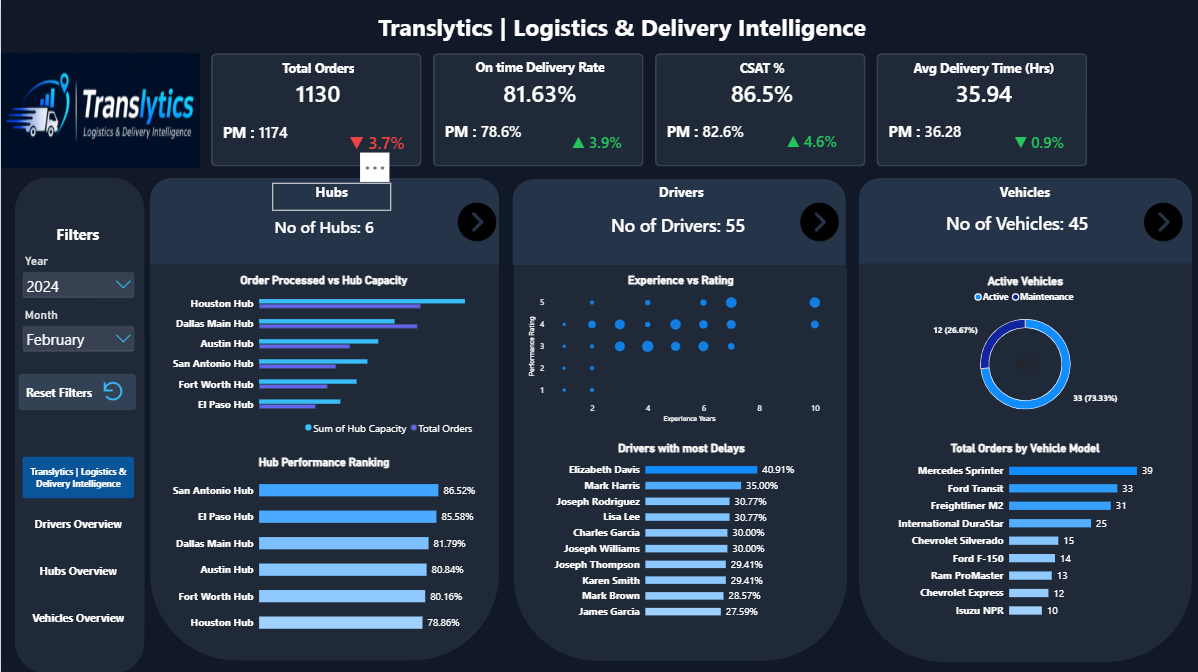

The page's visual inventory and layout, read from the dashboard file:
{"tool":"powerbi","page":{"name":"Translytics | Logistics & Delivery Intelligence","canvas":[1920,1080],"ordinal":0},"visuals":[{"type":"textbox","box":[479.6,0,1027.9,83.2],"z":0},{"type":"cardVisual","fields":{"Data":["Orders.Total Orders","Orders.On time Delivery Rate","Orders.CSAT %","Orders.Avg Delivery Time (Hrs)"]},"box":[336.6,81.4,1402.5,186.4],"z":1000},{"type":"shape","box":[237.1,285.9,559.2,772.7],"z":2000},{"type":"shape","box":[237.1,285.9,559.2,139.3],"z":3000},{"type":"cardVisual","fields":{"Data":["Hubs.No of Hubs"]},"box":[398.1,329.4,238.9,67],"z":4000},{"type":"clusteredBarChart","title":"Order Processed vs Hub Capacity","fields":{"Category":["Hubs.HubName"],"Y":["Sum(Hubs.Hub Capacity)","Orders.Total Orders"]},"box":[258.8,423.5,517.6,293.2],"z":5000},{"type":"barChart","title":"Hub Performance Ranking","fields":{"Category":["Hubs.HubName"],"Y":["Orders.On time Delivery Rate"]},"box":[258.8,716.6,517.6,325.7],"z":6000},{"type":"shape","box":[819.8,307.6,533.8,751],"z":7000},{"type":"shape","box":[818,287.7,533.8,137.5],"z":8000},{"type":"shape","box":[1371.7,287.7,533.8,772.7],"z":9000},{"type":"shape","box":[1371.7,285.9,533.8,137.5],"z":10000},{"type":"textbox","box":[433.5,294.1,190,43.4],"z":11000},{"type":"textbox","box":[1015.2,293.2,144.8,45.2],"z":12000},{"type":"cardVisual","fields":{"Data":["Drivers.No of Drivers"]},"box":[959.1,336.6,251.5,50.7],"z":13000},{"type":"scatterChart","title":"Experience vs Rating ","fields":{"Size":["Sum(Drivers.Experience Years)1"],"X":["Drivers.Experience Years"],"Y":["Drivers.Performance Rating"]},"box":[828.8,423.5,519.4,269.6],"z":14000},{"type":"barChart","title":"Drivers with most Delays ","fields":{"Category":["Drivers.DriverName"],"Y":["Orders.Delayed Delivery Rate"]},"box":[868.6,693.1,441.6,318.5],"z":15000},{"type":"textbox","box":[1565.4,293.2,144.8,45.2],"z":16000},{"type":"cardVisual","fields":{"Data":["Vehicles.No of Vehicles"]},"box":[1496.6,331.2,284.1,50.7],"z":17000},{"type":"donutChart","title":"Active Vehicles","fields":{"Category":["Vehicles.Vehicle Status"],"Y":["CountNonNull(Vehicles.Vehicle ID)"]},"box":[1429.6,425.3,418,267.8],"z":18000},{"type":"barChart","fields":{"Category":["Vehicles.Vehicle Model"],"Y":["Orders.Total Orders"]},"box":[1418.8,693.1,441.6,318.5],"z":19000},{"type":"cardVisual","fields":{"Data":["Date Table.Orders Comparison"]},"box":[516,190,171.9,79.6],"z":20000},{"type":"cardVisual","fields":{"Data":["Date Table.On Time Comparison"]},"box":[868,190,171.9,79.6],"z":21000},{"type":"cardVisual","fields":{"Data":["Date Table.CSAT Comparison"]},"box":[1212,186,171.9,83.2],"z":22000},{"type":"cardVisual","fields":{"Data":["Date Table.Delivery Time Comparison"]},"box":[1582,190,158,78],"z":23000},{"type":"shape","box":[22,286,208,794],"z":24000},{"type":"slicer","fields":{"Values":["Date Table.Month"]},"box":[30,494,188.2,92.3],"z":25000},{"type":"slicer","fields":{"Values":["Date Table.Year"]},"box":[30,408,188.2,85.1],"z":26000},{"type":"textbox","box":[36,360,173.7,43.4],"z":27000},{"type":"actionButton","box":[28,600,188,58],"z":28000},{"type":"image","box":[0,85.1,318.5,184.6],"z":29000},{"type":"image","box":[152,608,54,40],"z":30000},{"type":"image","box":[1274,325.7,70.6,61.5],"z":31000},{"type":"image","box":[725.7,325.7,70.6,61.5],"z":32000},{"type":"pageNavigator","box":[34.4,731.1,179.2,295],"z":33000},{"type":"image","box":[1824.1,325.7,70.6,61.5],"z":33001}]}

Visuals, with their boxes in screenshot pixels (x1, y1, x2, y2), scaled from the page's 1920x1080 canvas onto the 1198x672 screenshot:
textbox: region(299, 0, 941, 52)
cardVisual - Orders.Total Orders x Orders.On time Delivery Rate: region(210, 51, 1085, 167)
shape: region(148, 178, 497, 659)
shape: region(148, 178, 497, 265)
cardVisual - Hubs.No of Hubs: region(248, 205, 397, 247)
"Order Processed vs Hub Capacity" clusteredBarChart: region(161, 264, 484, 446)
"Hub Performance Ranking" barChart: region(161, 446, 484, 649)
shape: region(512, 191, 845, 659)
shape: region(510, 179, 843, 265)
shape: region(856, 179, 1189, 660)
shape: region(856, 178, 1189, 263)
textbox: region(270, 183, 389, 210)
textbox: region(633, 182, 724, 211)
cardVisual - Drivers.No of Drivers: region(598, 209, 755, 241)
"Experience vs Rating " scatterChart: region(517, 264, 841, 431)
"Drivers with most Delays " barChart: region(542, 431, 818, 629)
textbox: region(977, 182, 1067, 211)
cardVisual - Vehicles.No of Vehicles: region(934, 206, 1111, 238)
"Active Vehicles" donutChart: region(892, 265, 1153, 431)
barChart - Vehicles.Vehicle Model x Orders.Total Orders: region(885, 431, 1161, 629)
cardVisual - Date Table.Orders Comparison: region(322, 118, 429, 168)
cardVisual - Date Table.On Time Comparison: region(542, 118, 649, 168)
cardVisual - Date Table.CSAT Comparison: region(756, 116, 863, 168)
cardVisual - Date Table.Delivery Time Comparison: region(987, 118, 1086, 167)
shape: region(14, 178, 144, 671)
slicer - Date Table.Month: region(19, 307, 136, 365)
slicer - Date Table.Year: region(19, 254, 136, 307)
textbox: region(22, 224, 131, 251)
actionButton: region(17, 373, 135, 409)
image: region(0, 53, 199, 168)
image: region(95, 378, 129, 403)
image: region(795, 203, 839, 241)
image: region(453, 203, 497, 241)
pageNavigator: region(21, 455, 133, 638)
image: region(1138, 203, 1182, 241)
